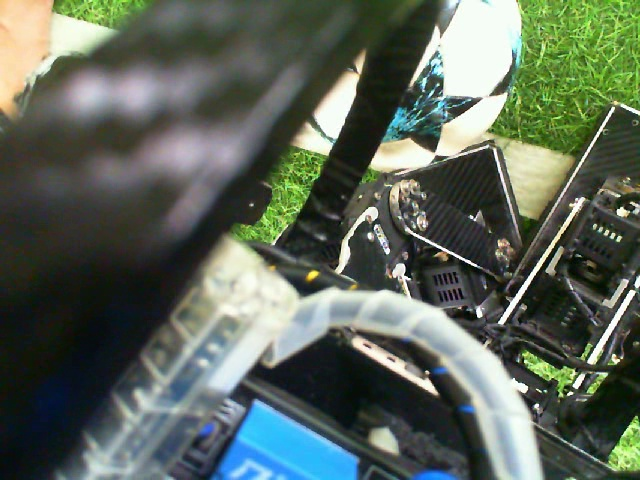ball: (367, 1, 525, 175)
